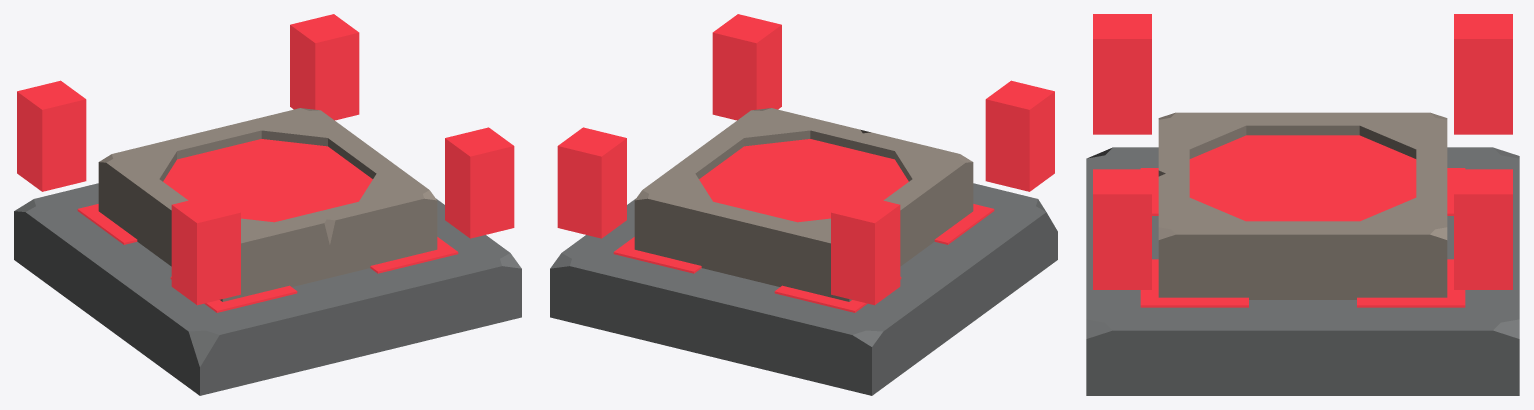
The model's file is red_join_area.gltf.
3 renders of one model, left to right at view 1: azimuth 30°, elevation 25°; view 2: azimuth 150°, elevation 25°; view 3: azimuth 270°, elevation 25°, orthographic. The views are drawn at different scales.
Visible parts, largest first — view 1: Plane.076, Plane.092, Plane.147, Plane.148, Plane.146, Plane.074; view 2: Plane.076, Plane.148, Plane.146, Plane.147, Plane.092, Plane.074; view 3: Plane.076, Plane.092, Plane.147, Plane.148, Plane.146, Plane.074.
Part boxes in pixels (x1,y1,x2,y2): Plane.076: [14, 108, 521, 395]; Plane.092: [445, 127, 514, 238]; Plane.147: [17, 80, 86, 191]; Plane.148: [171, 194, 240, 305]; Plane.146: [290, 14, 359, 120]; Plane.074: [77, 204, 458, 312]; Plane.076: [550, 108, 1057, 395]; Plane.148: [985, 80, 1054, 191]; Plane.146: [557, 127, 626, 238]; Plane.147: [831, 194, 900, 305]; Plane.092: [712, 14, 781, 120]; Plane.074: [613, 204, 994, 312]; Plane.076: [1086, 112, 1519, 395]; Plane.092: [1093, 169, 1151, 289]; Plane.147: [1454, 14, 1512, 134]; Plane.148: [1093, 14, 1151, 134]; Plane.146: [1454, 169, 1512, 289]; Plane.074: [1140, 168, 1465, 307].
Size of what is drawn, in the model's own units: 6 by 3.04 by 6.
3 materials, 1 textured.
